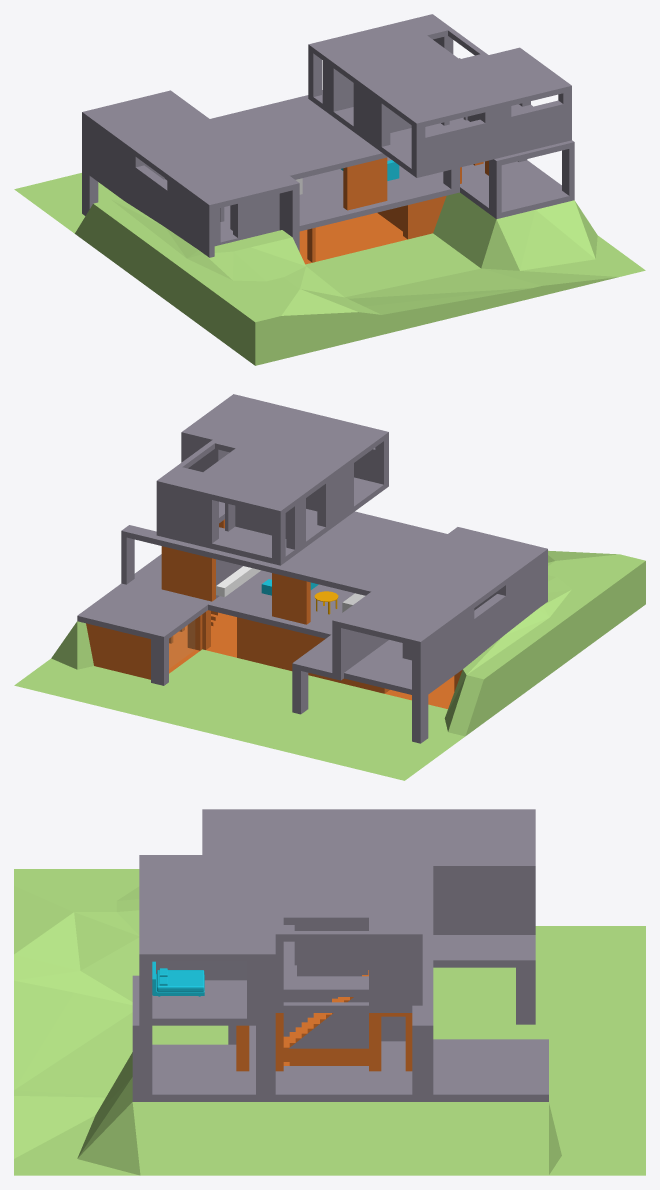
The model's file is House_no_draco.glb.
3 views of the same model, one above another, from view 1: azimuth 30°, elevation 25°; view 2: azimuth 150°, elevation 25°; view 3: azimuth 270°, elevation 25° (orthographic). The views are drawn at different scales.
Parts seen in each view (by area): view 1: Ground, First Floor, Ground Floor, Roof, Basement; view 2: Ground, Ground Floor, First Floor, Basement, Roof, S Living_Room 3 - TV Cabinet; view 3: Ground, Ground Floor, First Floor, Roof, Basement, S Default 2 - Bed Bedroom, S Living_Room 4 - Stairs.
Part boxes in pixels (box(x1,y1,x2,y2)): Ground: box(14, 173, 645, 365); First Floor: box(96, 14, 571, 189); Ground Floor: box(82, 58, 534, 257); Roof: box(322, 20, 557, 117); Basement: box(82, 140, 574, 264); Ground: box(14, 550, 645, 780); Ground Floor: box(77, 511, 547, 699); First Floor: box(156, 394, 520, 635); Basement: box(86, 610, 462, 743); Roof: box(170, 400, 374, 505); S Living_Room 3 - TV Cabinet: box(216, 566, 260, 597); Ground: box(14, 869, 645, 1175); Ground Floor: box(202, 809, 548, 1101); First Floor: box(139, 815, 522, 1025); Roof: box(152, 860, 409, 948); Basement: box(132, 967, 535, 1101); S Default 2 - Bed Bedroom: box(152, 961, 204, 996); S Living_Room 4 - Stairs: box(283, 970, 368, 1051).
Size of the model in its own units: 22.5 by 8.6 by 24.07.
